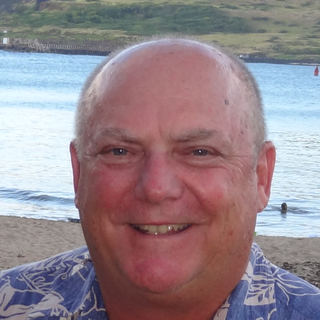eye: (178, 141, 222, 164), (94, 142, 140, 162)
